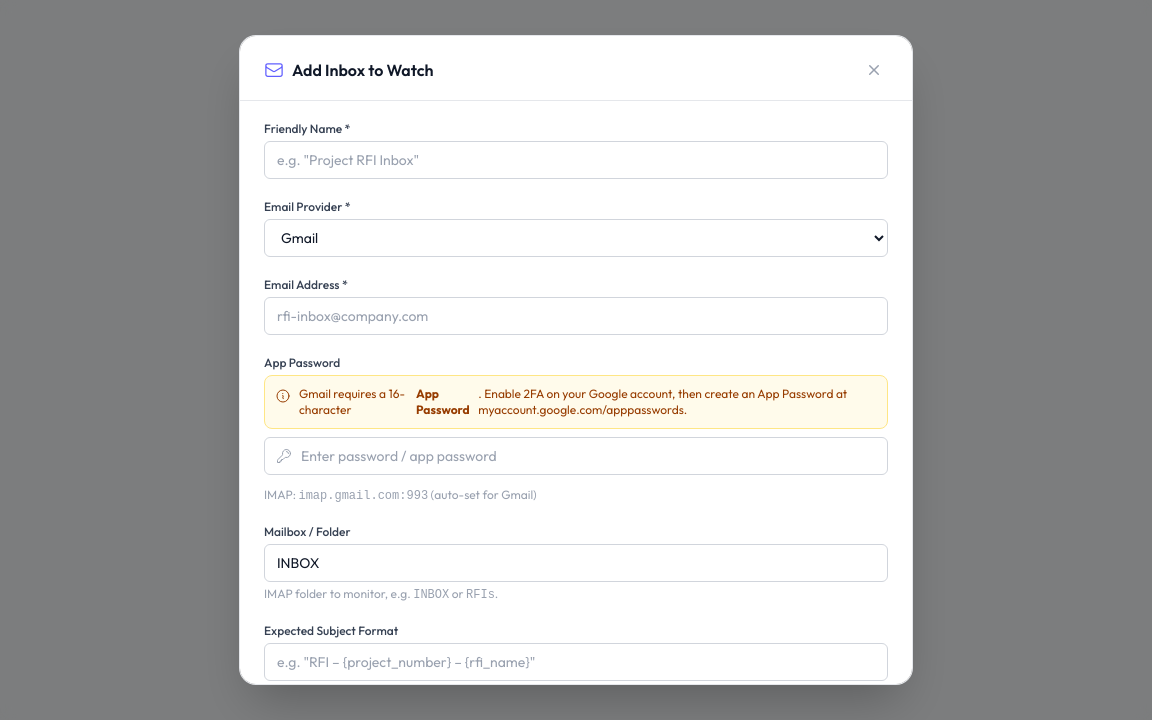
Test case: EmailConfigModal — create mode › hides the App Password hint when Outlook is selected
Select "Outlook / Microsoft 365" in the dropdown showing "Gmail" at (576, 238), box x1=264 y1=219 x2=888 y2=257
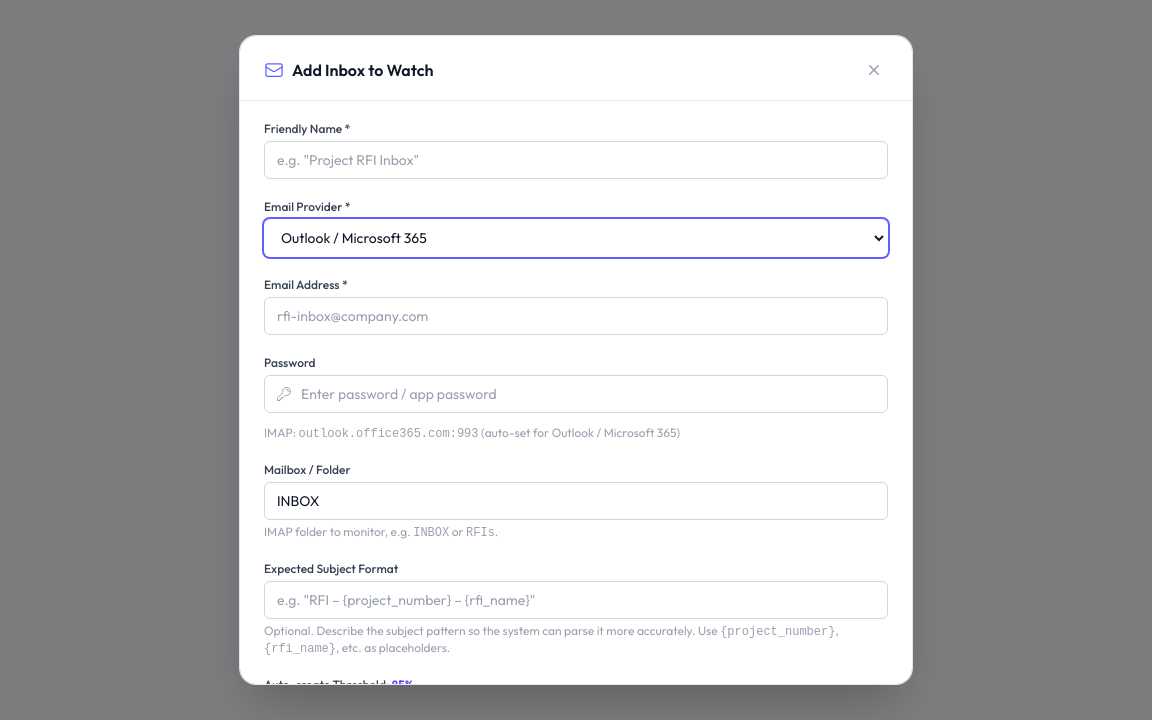
Expected: the text "App Password" is gone
